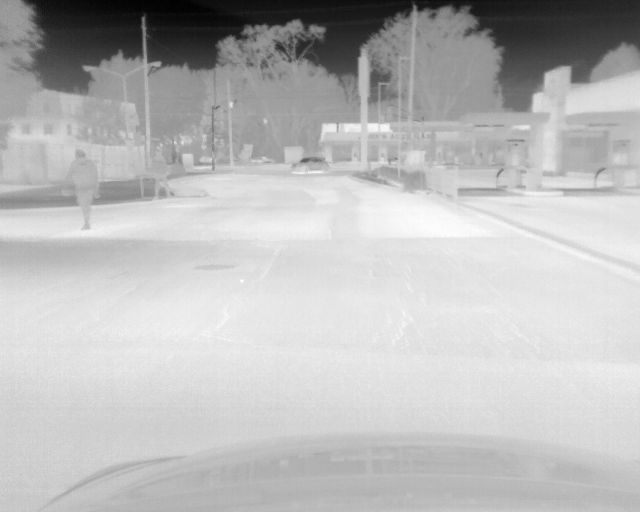car: (289, 157, 331, 176), (247, 154, 276, 166)
people: (62, 148, 101, 232), (146, 153, 173, 203)
